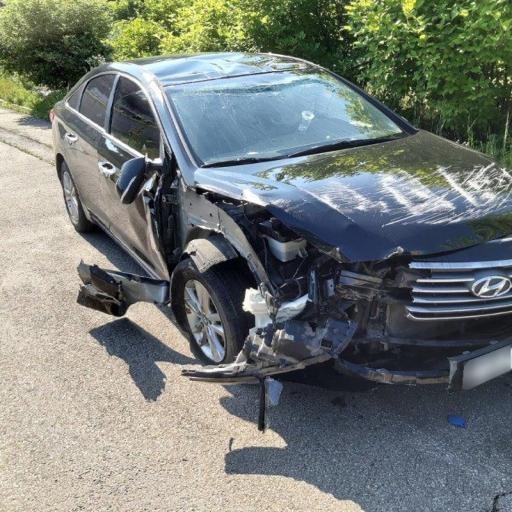broken: (128, 148, 447, 413), (189, 44, 337, 104)
